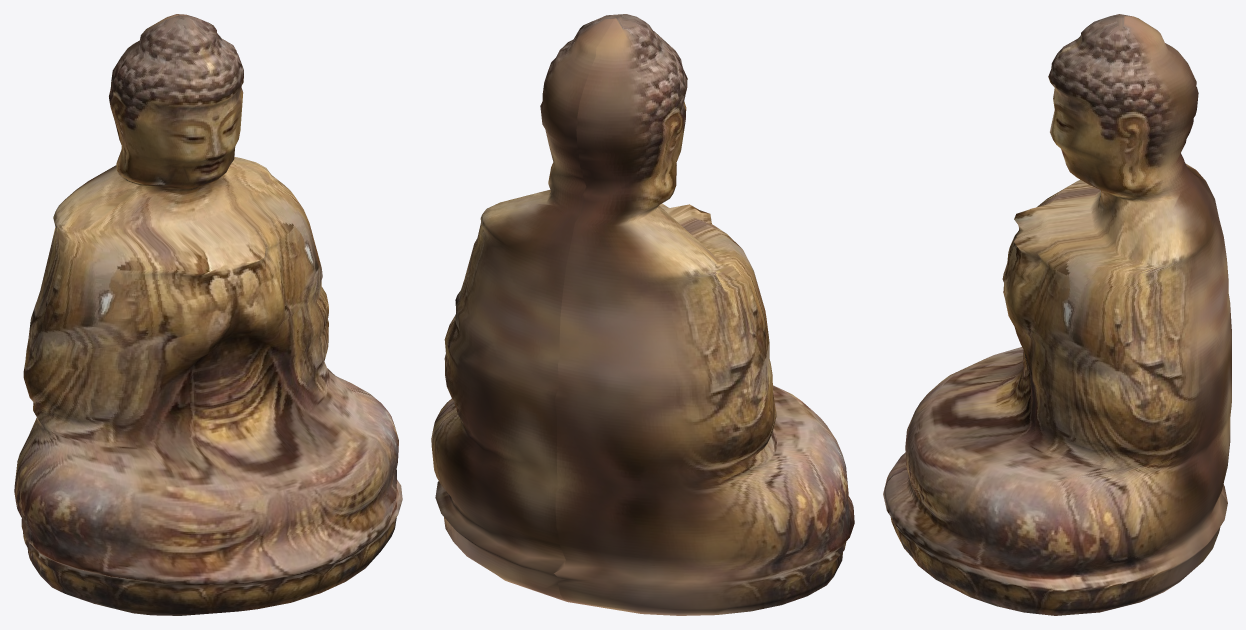
File: seven-6.glb
3 renders of one model, left to right at view 1: azimuth 30°, elevation 25°; view 2: azimuth 150°, elevation 25°; view 3: azimuth 270°, elevation 25°, orthographic. The views are drawn at different scales.
Visible parts, largest first — view 1: seven-6; view 2: seven-6; view 3: seven-6.
Part boxes in pixels (left/top/right/bottom): seven-6: left=14, top=14, right=402, bottom=615; seven-6: left=431, top=14, right=854, bottom=615; seven-6: left=883, top=14, right=1231, bottom=615.
Size of the model in its own units: 0.7284 by 1 by 0.6057.
Materials: 1 (1 with a texture image).
